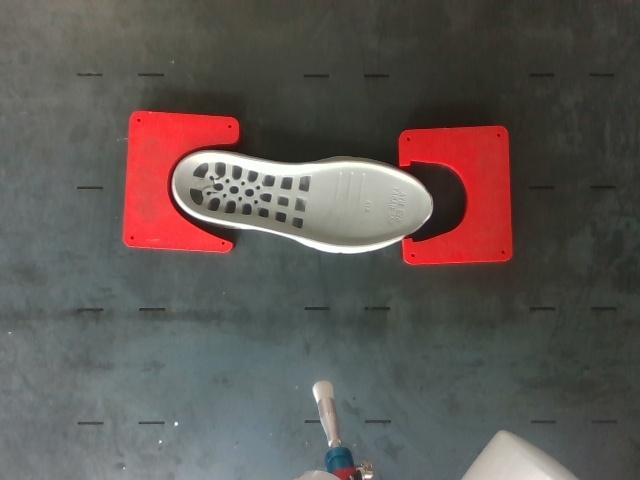shoes: (173, 155, 432, 246)
